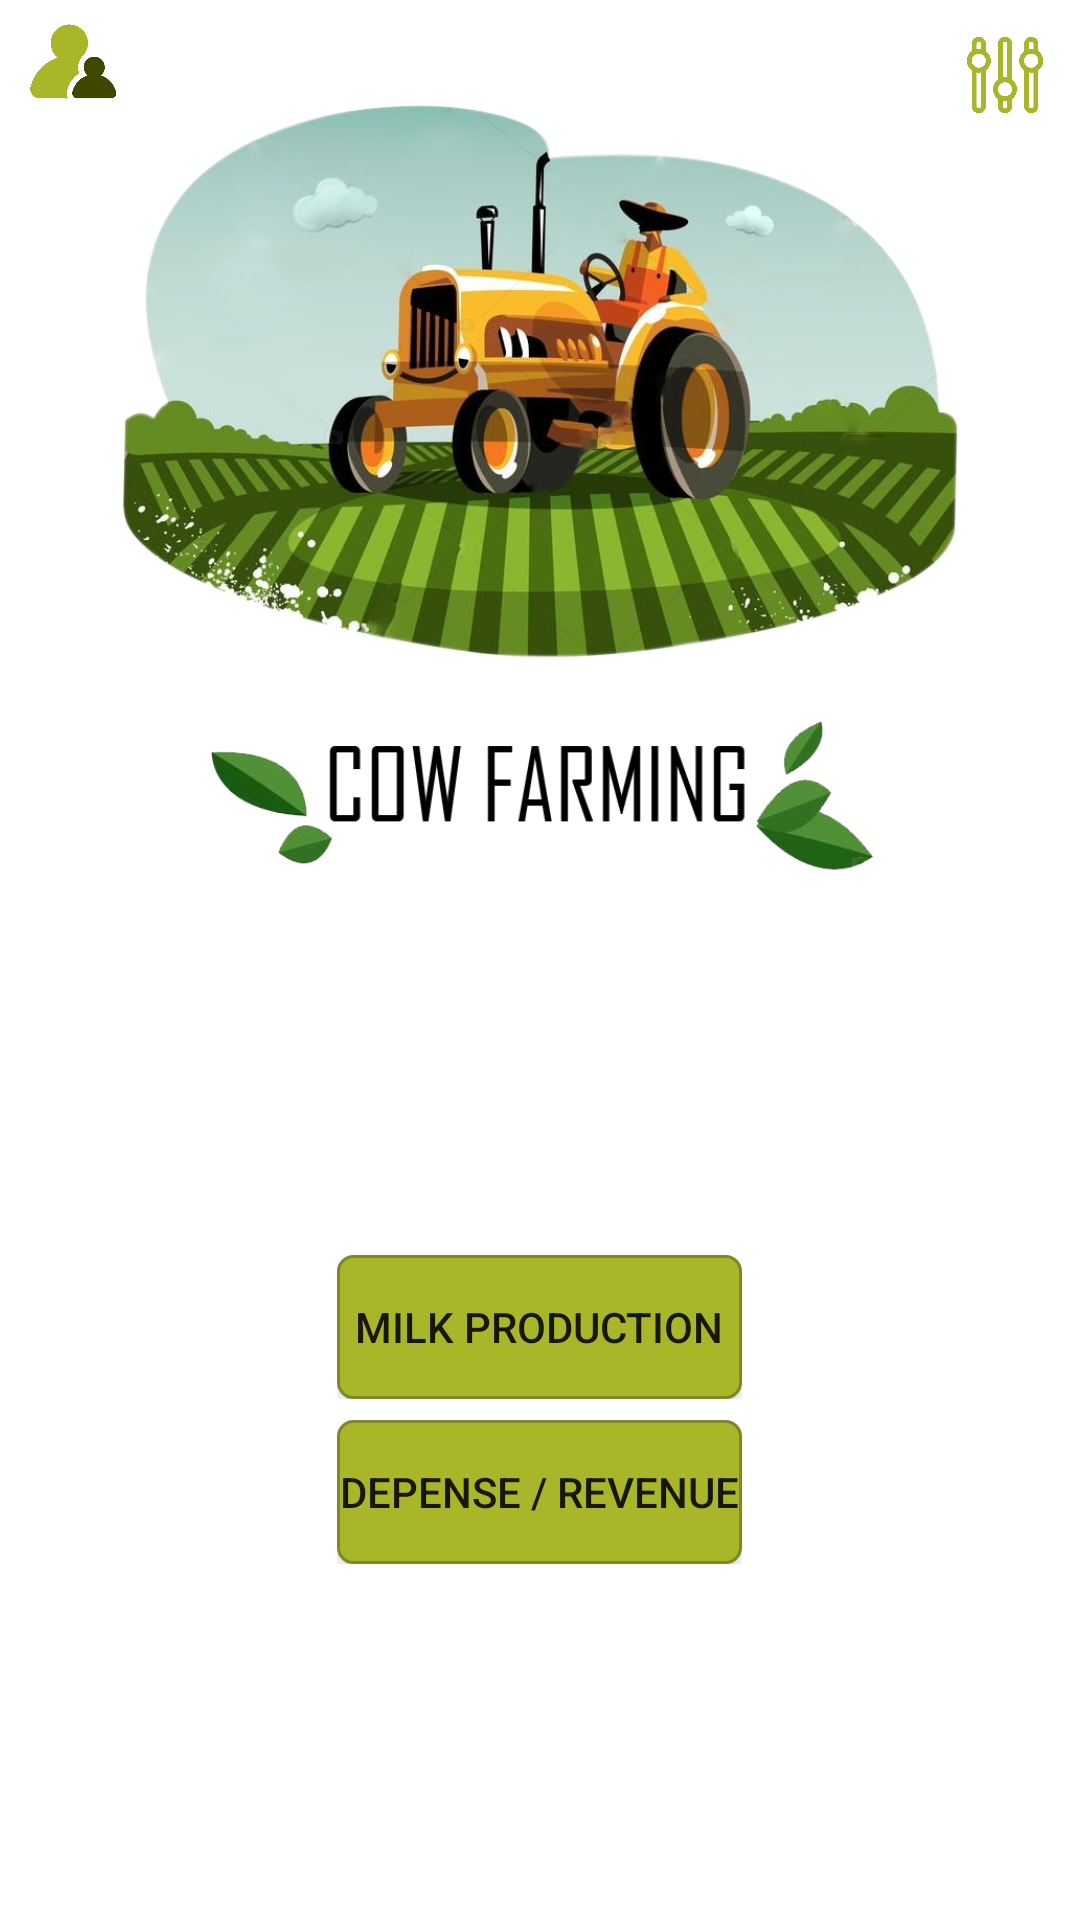

Where to tap for icons on this 1080*1920 app screen, as point (x, y):
about us: point (73, 61)
conf: point (1005, 75)
